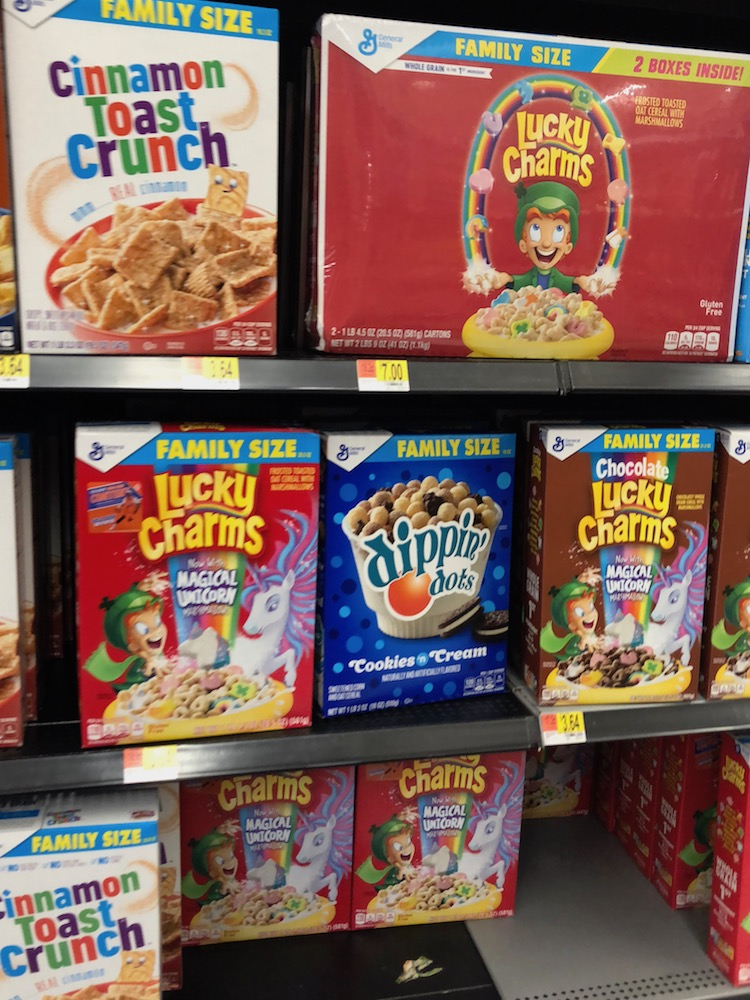Dippin Dots Cookies & Cream -568929378: (321, 436, 518, 709)
